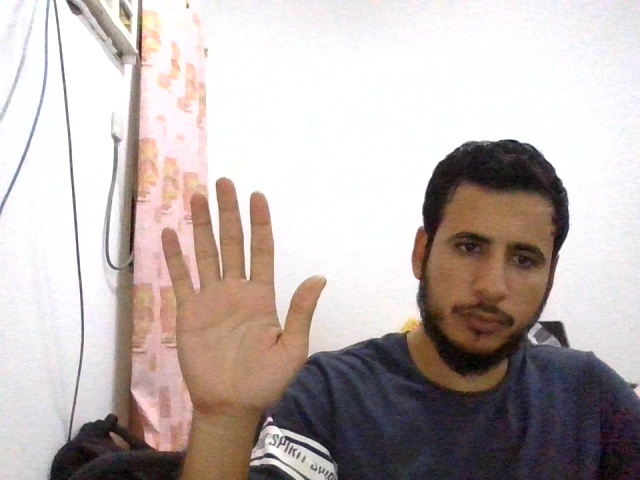Five: (161, 178, 327, 410)
